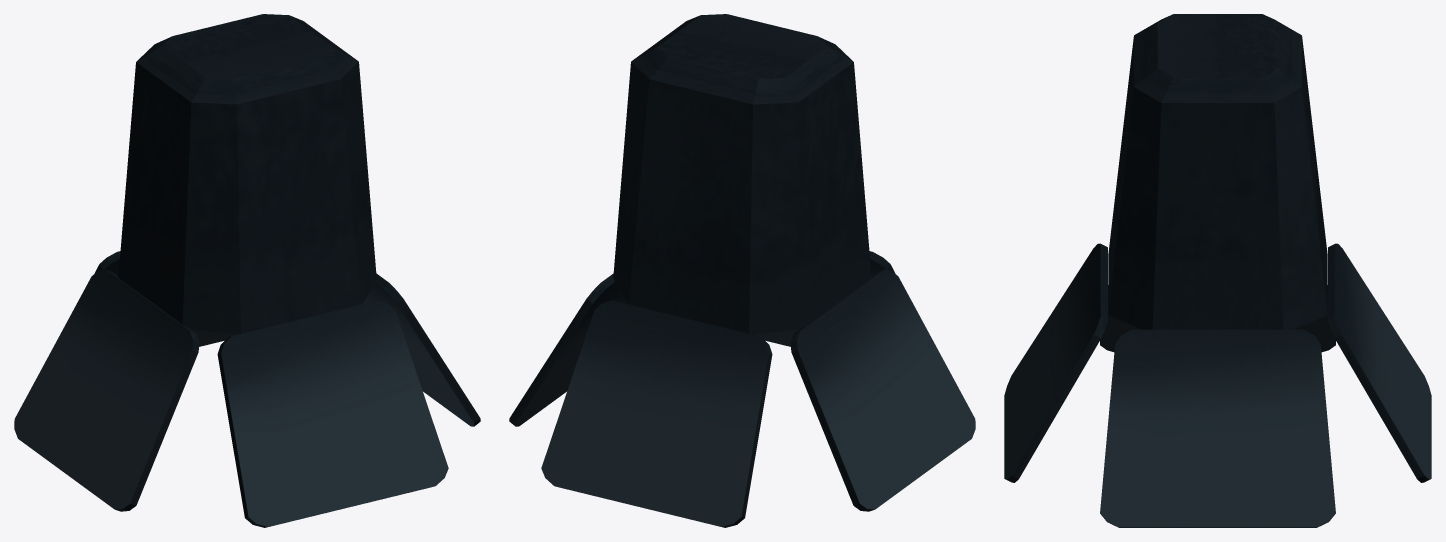
The model's file is F_Scene_light.fbx.
3 renders of one model, left to right at view 1: azimuth 30°, elevation 25°; view 2: azimuth 150°, elevation 25°; view 3: azimuth 270°, elevation 25°, orthographic. The views are drawn at different scales.
Visible parts, largest first — view 1: F_Scene_Light; view 2: F_Scene_Light; view 3: F_Scene_Light.
Part boxes in pixels (x1=…): F_Scene_Light: x1=14, y1=14, x2=480, y2=527; F_Scene_Light: x1=509, y1=14, x2=975, y2=527; F_Scene_Light: x1=1004, y1=14, x2=1431, y2=527.
Bounding box in the file's own units: 1.34 × 1.36 × 1.34.
1 material, 1 textured.
